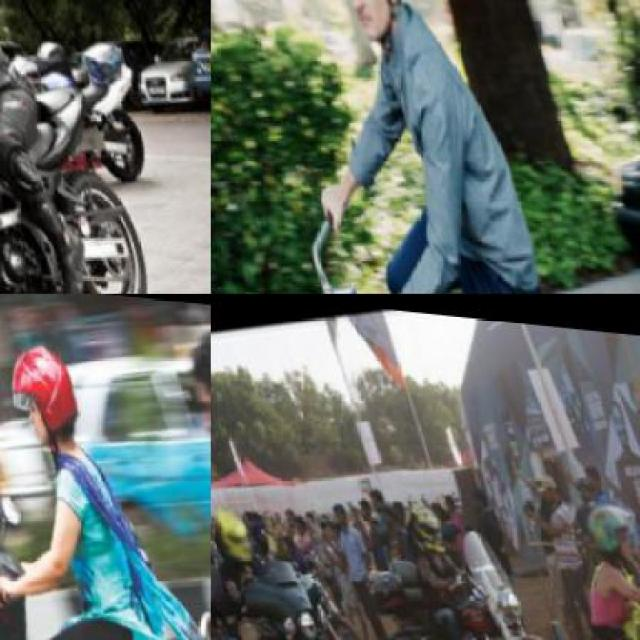With Helmet: (0, 315, 91, 454), (304, 0, 434, 54), (577, 482, 638, 558), (401, 486, 447, 554), (211, 499, 254, 566)
